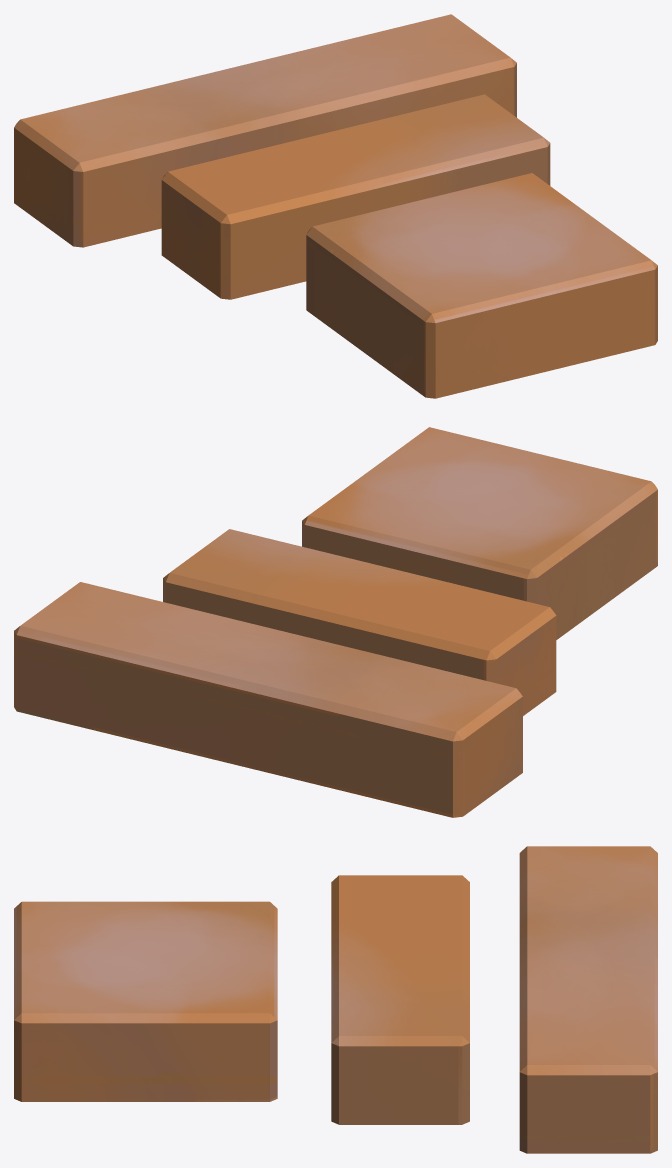
Rendered from Buttons.glb.
3 views of the same model, one above another, from view 1: azimuth 30°, elevation 25°; view 2: azimuth 150°, elevation 25°; view 3: azimuth 270°, elevation 25° (orthographic). The views are drawn at different scales.
Visible parts, largest first — view 1: Button_Square, Button_Wide, Button_Small; view 2: Button_Wide, Button_Square, Button_Small; view 3: Button_Square, Button_Wide, Button_Small.
Boxes of the visible parts, x1,y1,x2,y2 form: Button_Square: (306,173,657,398); Button_Wide: (14,14,516,247); Button_Small: (161,94,550,299); Button_Wide: (14,582,522,817); Button_Square: (302,427,657,639); Button_Small: (163,529,556,715); Button_Square: (14,901,277,1101); Button_Wide: (519,846,657,1153); Button_Small: (331,875,469,1124).
Bounding box in the file's own units: 5.43 × 0.9611 × 6.56.
Materials: 1 (1 with a texture image).
